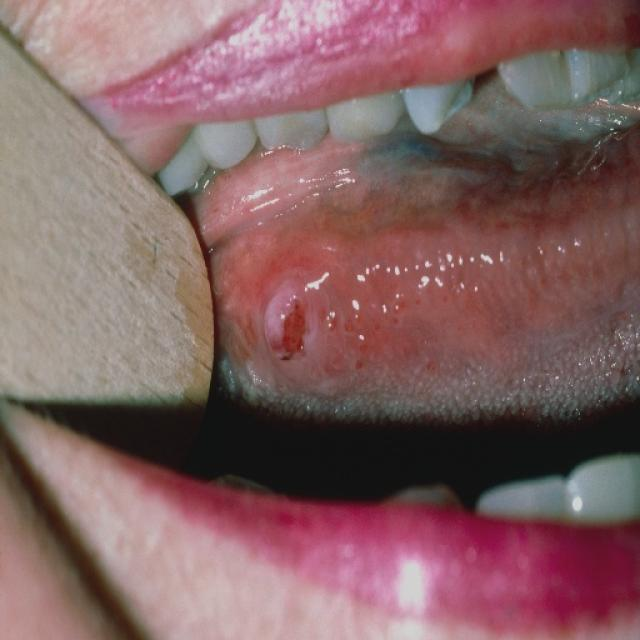cancer-detection: (233, 268, 348, 388)
processing_area: (191, 69, 639, 416)
